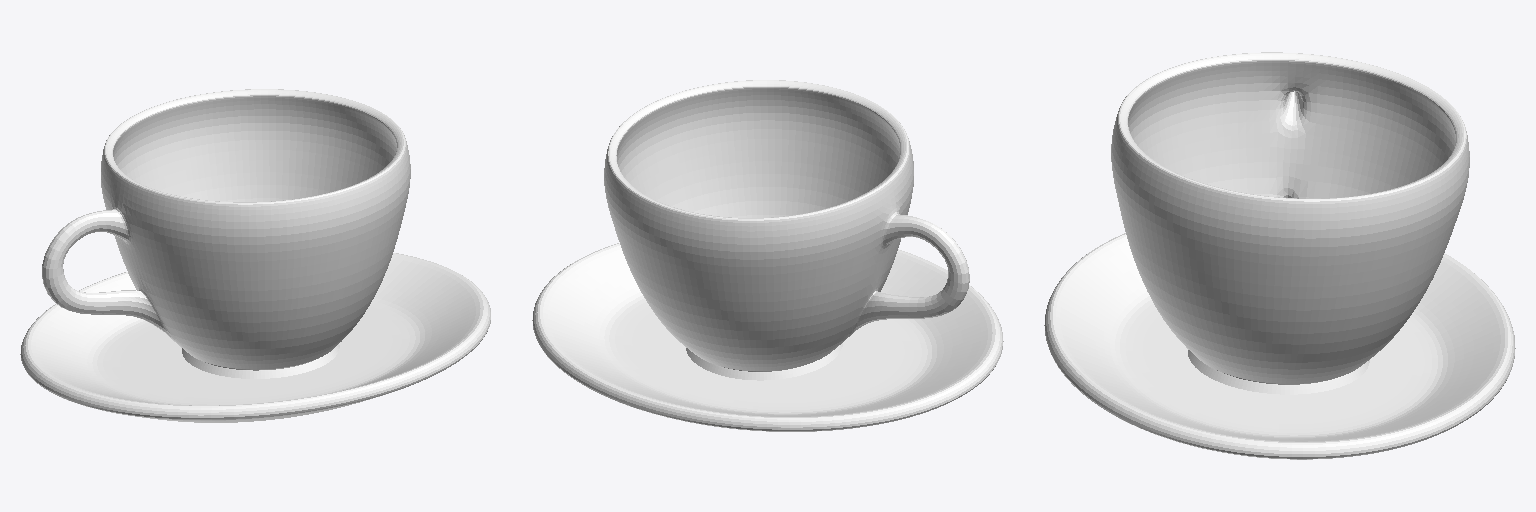
URDF robot description (cup):
<?xml version="1.0" ?>
<robot name="cup">
  <link name="baseLink">
    <!-- <contact> -->
    <!--   <lateral_friction value="1.0"/> -->
    <!--   <rolling_friction value="0.0"/> -->
    <!--   <contact_cfm value="0.0"/> -->
    <!--   <contact_erp value="1.0"/> -->
    <!-- </contact> -->
    <!-- <inertial> -->
    <!--   <origin rpy="0 0 0" xyz="0 0 0"/> -->
    <!--    <mass value="1.0"/> -->
    <!--    <inertia ixx="1" ixy="0" ixz="0" iyy="1" iyz="0" izz="1"/> -->
    <!-- </inertial> -->
    <visual>
      <origin rpy="1.517 0 0" xyz="0 0 0"/>
      <geometry>
	<mesh filename="cup.obj" scale="0.05 0.05 0.05"/>
      </geometry>
      <material name="white">
        <color rgba="1 1 1 1"/>
      </material>
    </visual>
    <!-- <collision> -->
    <!--   <origin rpy="0 0 0" xyz="0 0 0"/> -->
    <!--   <geometry> -->
    <!-- 	 	<box size="1 1 1"/> -->
    <!--   </geometry> -->
    <!-- </collision> -->
  </link>
</robot>

--- Render facts (derived) ---
Views: 3 orthographic renders of the robot side by side, from view 1: azimuth 30°, elevation 25°; view 2: azimuth 150°, elevation 25°; view 3: azimuth 270°, elevation 25°.
Model cup with 1 links and 0 joints (none), rooted at baseLink, posed every joint at zero.
Links seen in each view (by area): view 1: baseLink; view 2: baseLink; view 3: baseLink.
Boxes of the visible links, x1,y1,x2,y2 form: baseLink: (20,89,490,422); baseLink: (532,80,1003,431); baseLink: (1044,52,1515,459).
Size in the robot's own frame: 0.1916 by 0.1591 by 0.0978 metres.
Meshes: 1 distinct files referenced, 1 mesh visuals loaded (1 OBJ).